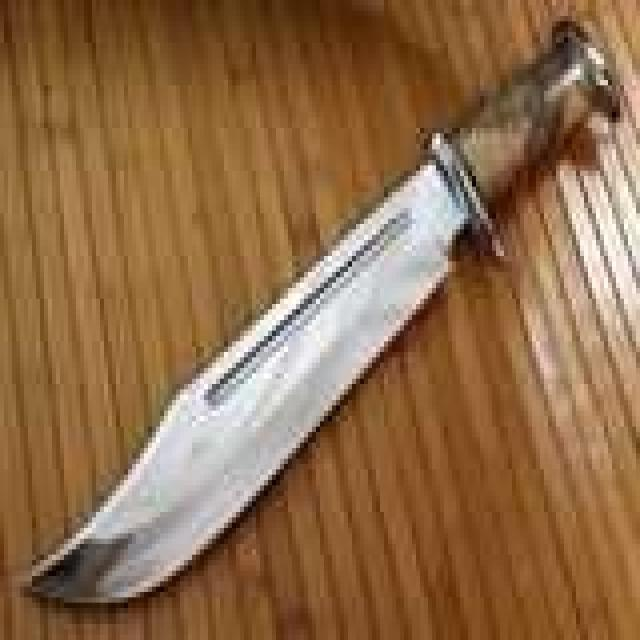Knife: (20, 16, 640, 640)
